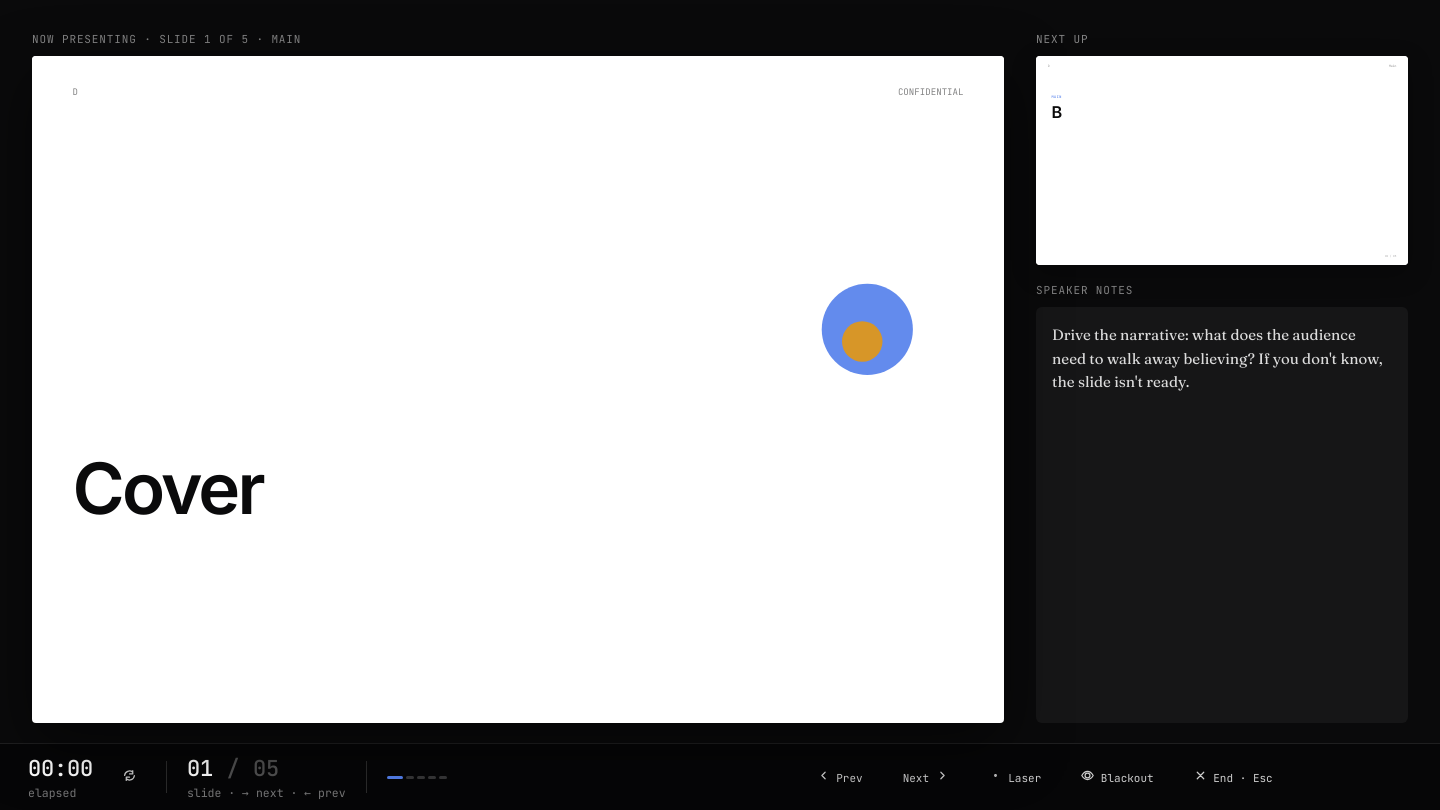
Test: PresenterView › toggles blackout from the control button too
Click the button "Blackout" at (1118, 777), box [1071,765,1164,789]
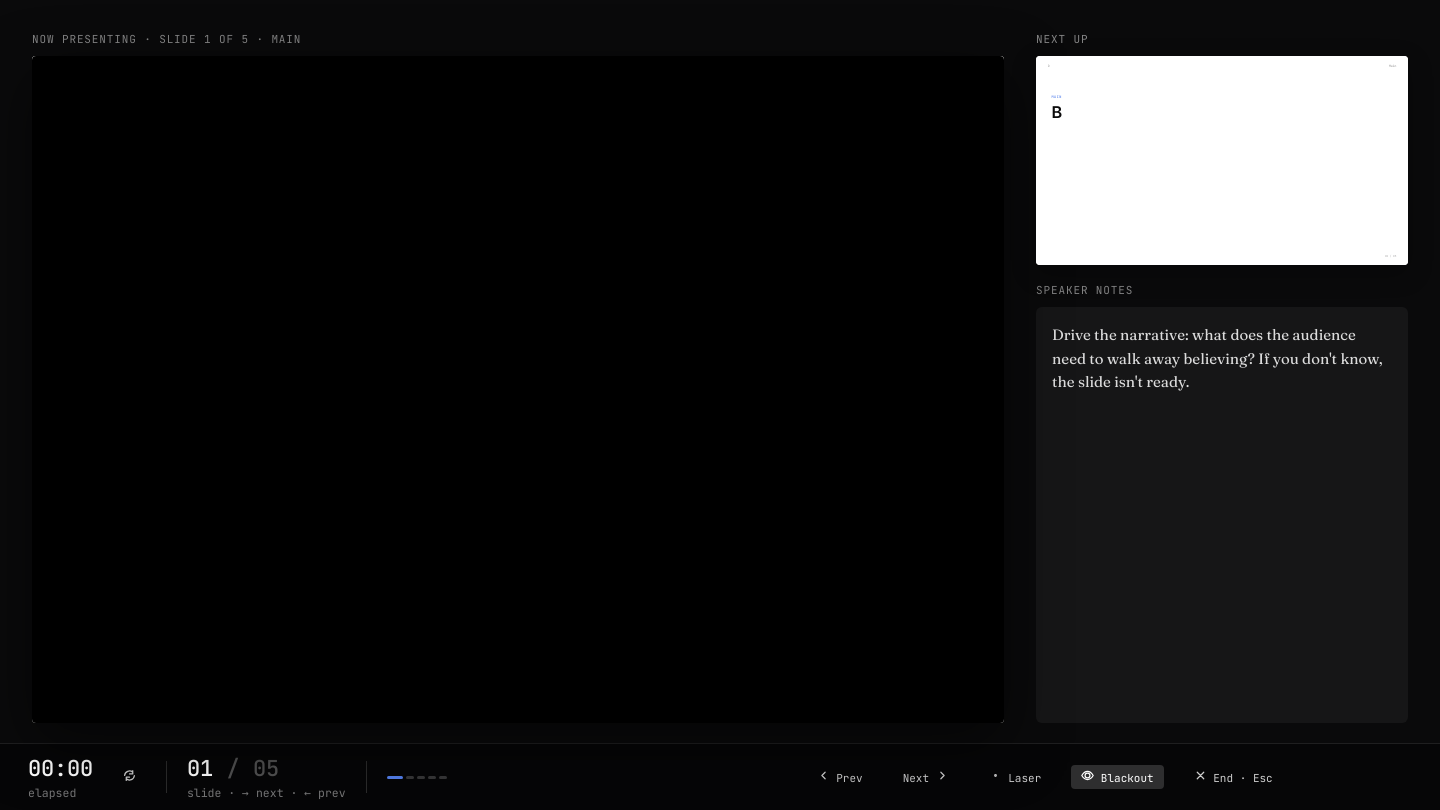
Expected: the element named "Screen blacked out — press B to resume" is shown, [32,56,1004,723]
